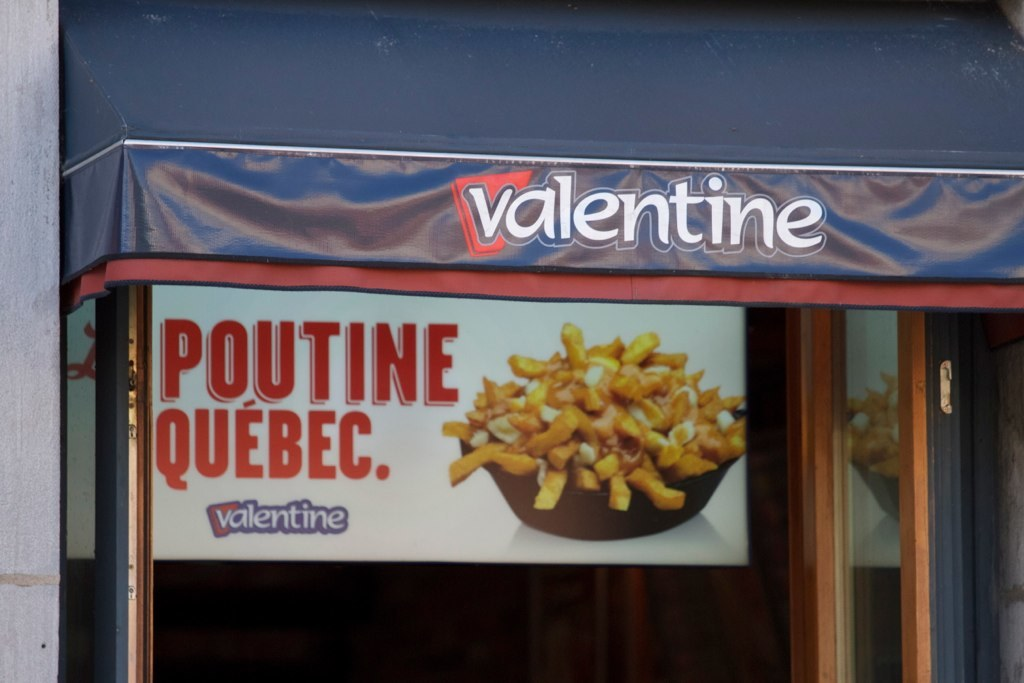French fries: (467, 351, 769, 545)
